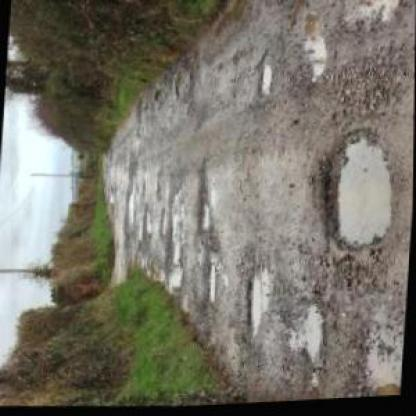pothole: (315, 126, 398, 257), (291, 12, 329, 89), (287, 301, 326, 372), (190, 162, 215, 242), (345, 0, 402, 33), (242, 276, 263, 341), (252, 50, 272, 100), (165, 266, 182, 296), (138, 206, 152, 242)
